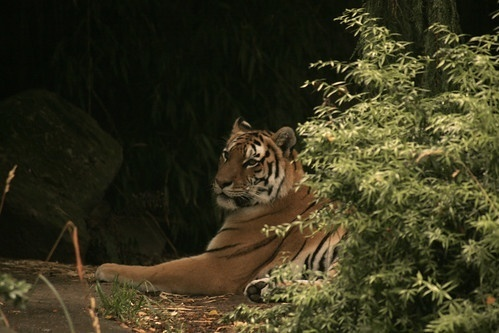tigre: (92, 114, 351, 302)
